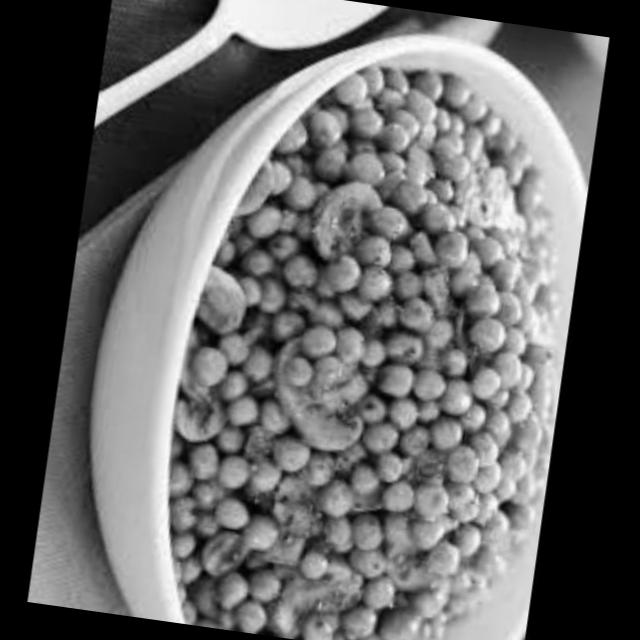dau ha lan: (371, 350, 555, 640), (421, 59, 597, 245), (223, 216, 379, 370), (178, 392, 282, 563), (303, 96, 470, 200), (458, 244, 568, 363), (304, 456, 384, 614), (364, 326, 439, 482), (359, 236, 448, 339), (266, 146, 340, 243), (226, 570, 302, 640), (306, 605, 369, 640)
